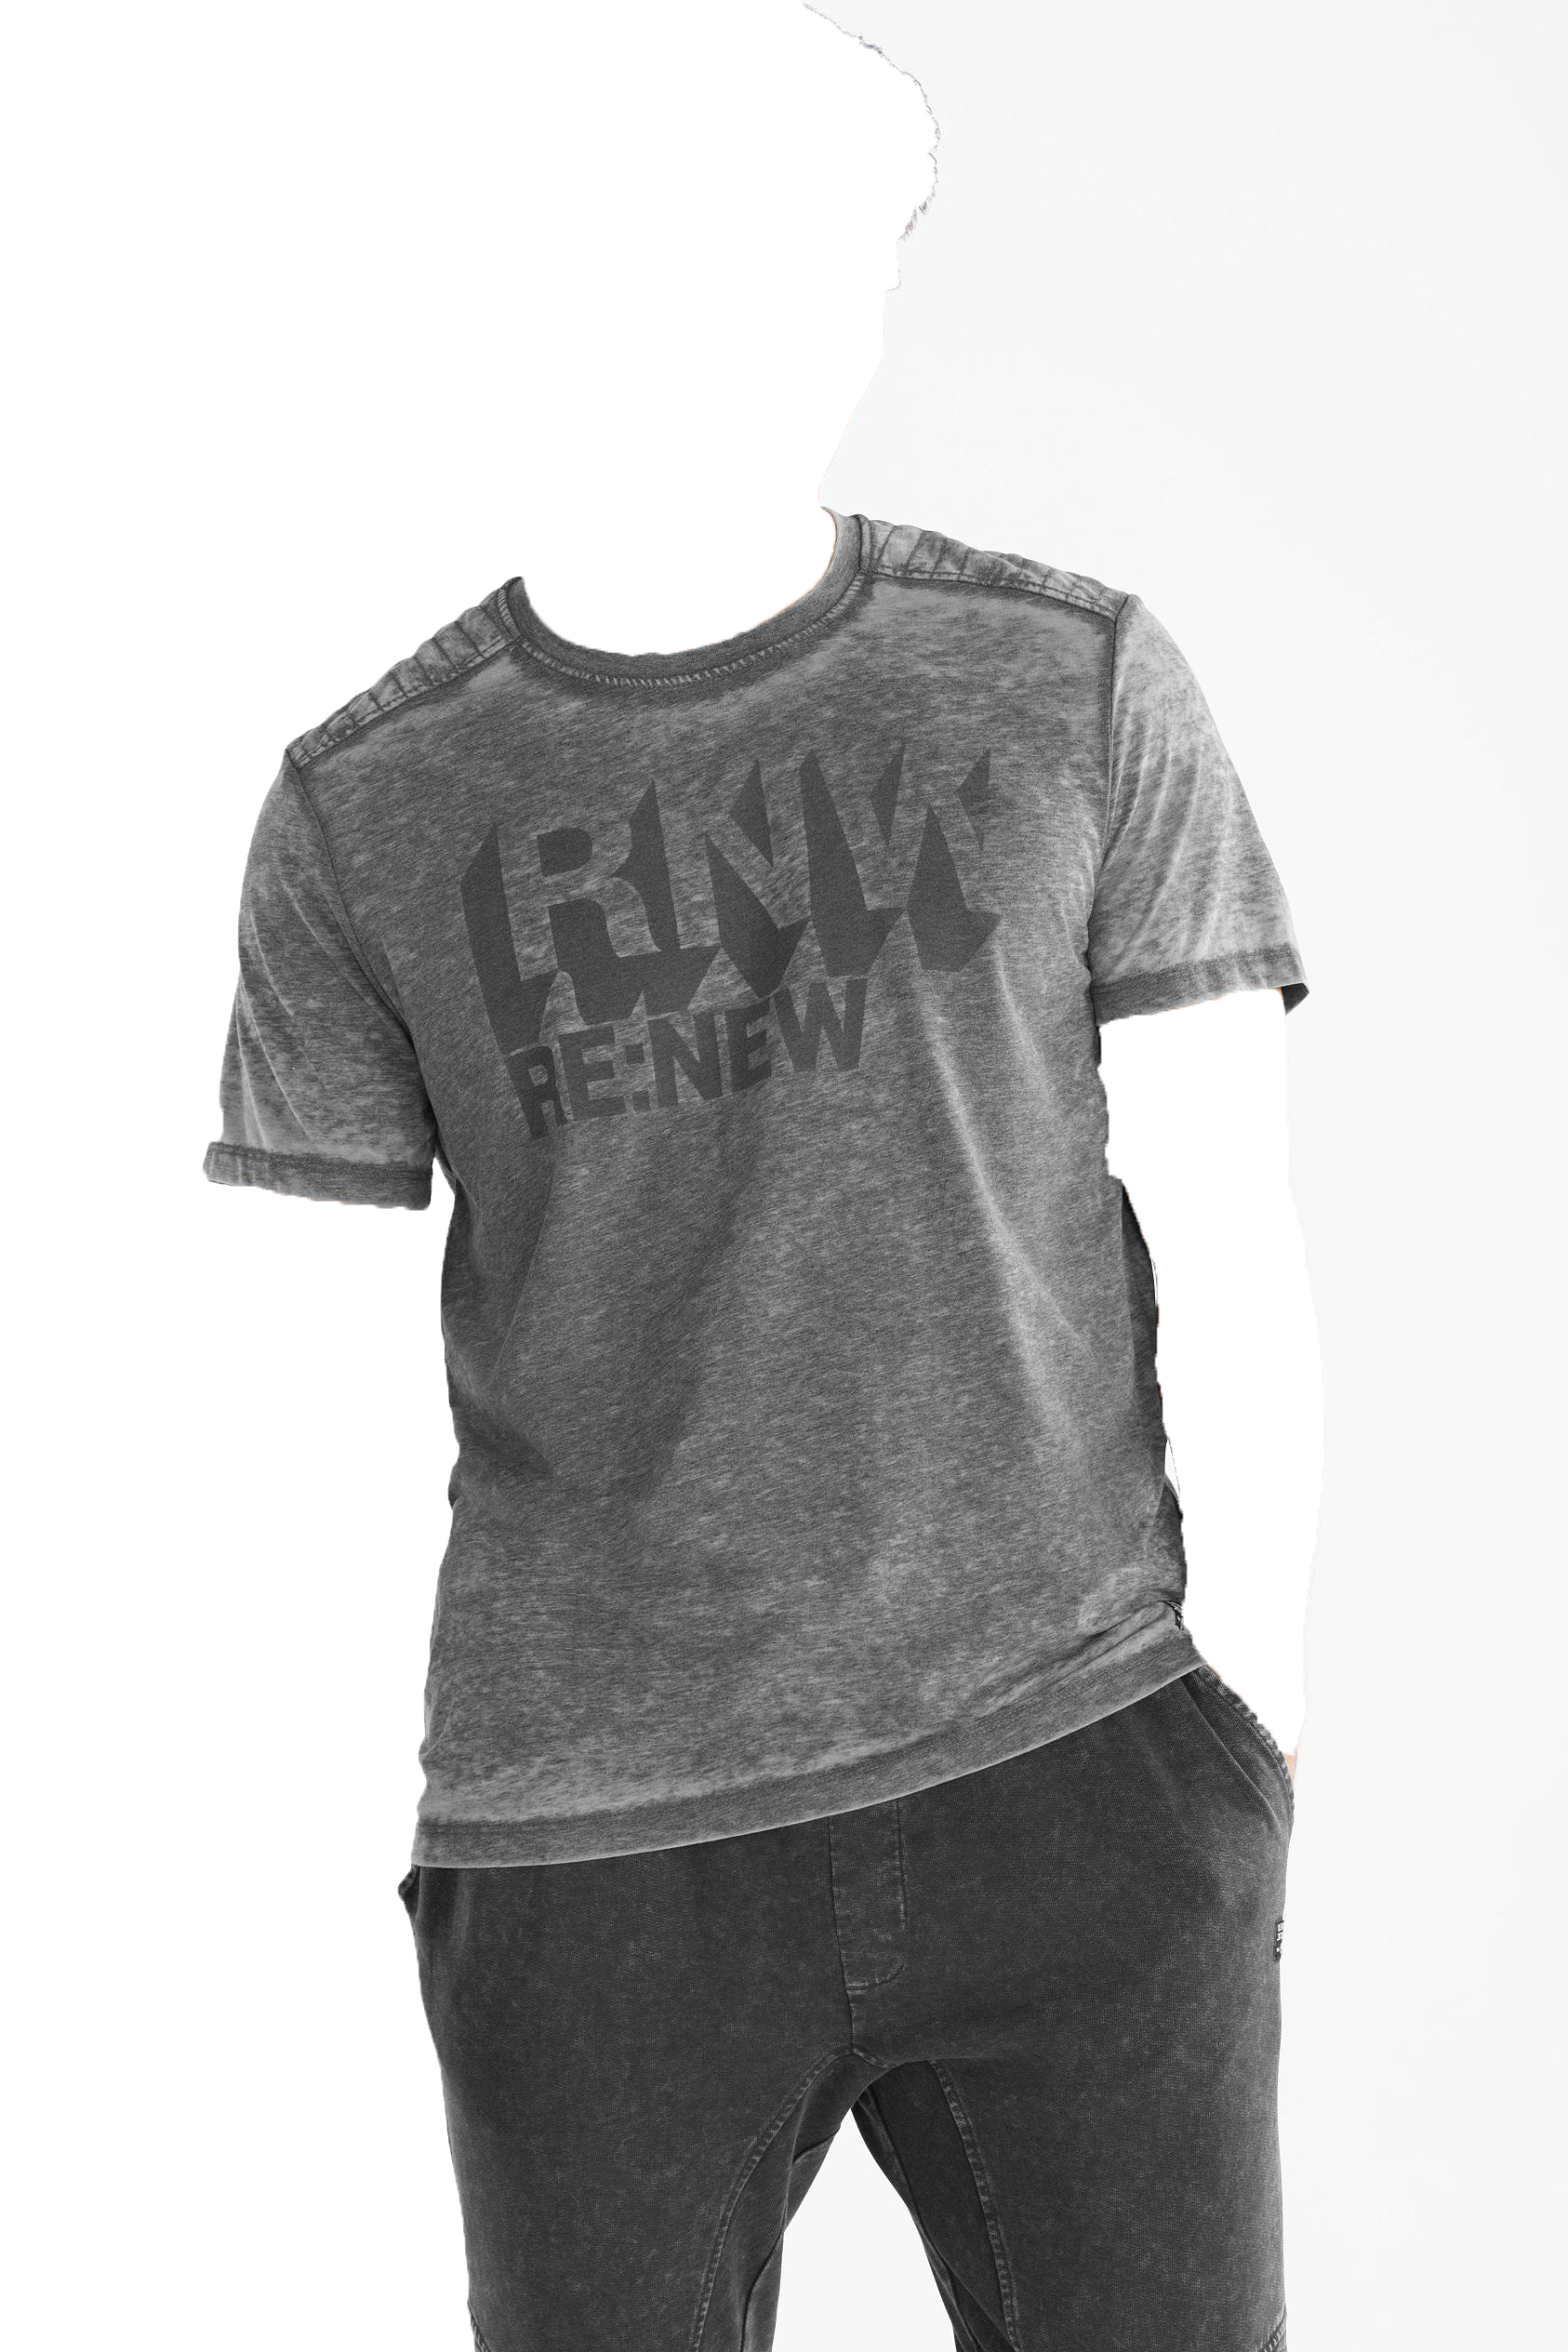teeshirt: (178, 516, 1325, 1869)
